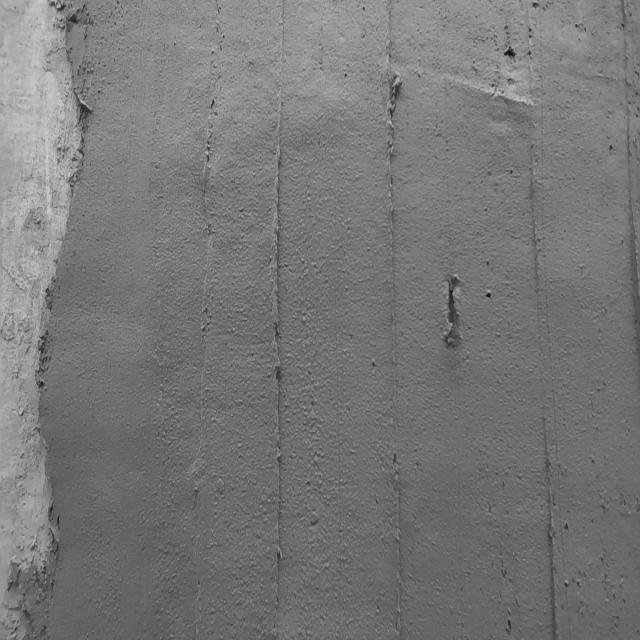trowels marks: (523, 12, 569, 640), (188, 18, 230, 640), (378, 2, 414, 640), (269, 3, 289, 640)
